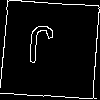J: (24, 24, 56, 75)
